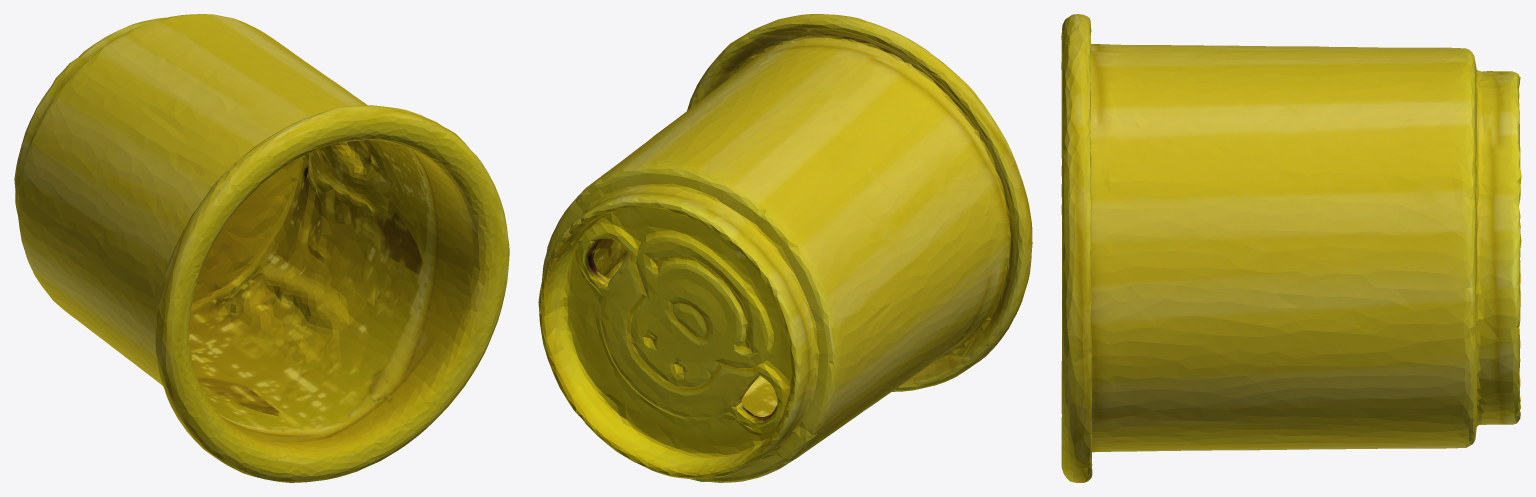
3 views of the same model, side by side, from view 1: azimuth 30°, elevation 25°; view 2: azimuth 150°, elevation 25°; view 3: azimuth 270°, elevation 25° (orthographic). The views are drawn at different scales.
Visible parts, largest first — view 1: node; view 2: node; view 3: node.
Boxes of the visible parts, x1,y1,x2,y2 form: node: (14, 14, 509, 482); node: (538, 14, 1032, 482); node: (1061, 14, 1521, 482).
Bounding box in the file's own units: 0.0707 × 0.0707 × 0.0689.
Materials: 1 (1 with a texture image).
